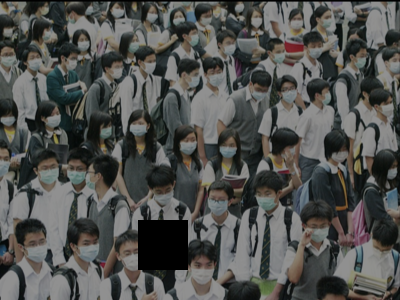with_mask: (188, 259, 215, 285), (23, 237, 48, 263), (76, 237, 99, 263), (121, 246, 143, 271), (305, 221, 330, 243), (254, 188, 277, 211), (64, 162, 86, 186), (206, 195, 228, 216), (152, 185, 174, 206), (38, 162, 58, 184), (177, 137, 198, 155), (218, 141, 238, 159), (330, 145, 349, 163), (370, 245, 392, 260), (43, 110, 61, 128), (128, 119, 146, 137), (377, 99, 394, 117), (281, 84, 297, 103), (26, 53, 42, 72), (307, 40, 323, 59), (207, 68, 223, 86), (84, 167, 96, 190), (97, 122, 113, 139), (0, 51, 15, 68), (251, 86, 269, 100), (186, 70, 200, 88), (142, 57, 156, 75), (222, 38, 236, 56), (271, 47, 285, 65), (385, 163, 398, 182), (280, 145, 295, 161), (353, 51, 367, 68), (250, 12, 263, 29), (0, 154, 10, 176), (289, 15, 303, 30), (109, 4, 124, 18), (0, 113, 16, 126), (110, 63, 123, 79), (65, 55, 78, 71), (76, 36, 89, 52), (127, 37, 139, 54), (320, 88, 331, 106), (188, 29, 199, 46), (199, 12, 212, 26), (145, 9, 158, 23), (389, 56, 399, 74), (1, 24, 13, 38), (320, 13, 332, 27), (172, 14, 185, 26), (39, 2, 49, 16), (42, 26, 51, 40), (234, 2, 244, 14), (65, 12, 75, 23)
